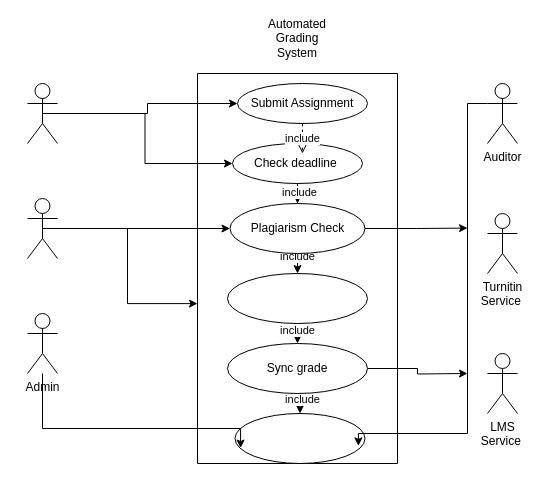
The diagram is 541 pixels wide and 481 high, and some of its shapes have lost their labels. Here are the shapes that lost their labels. From the top down, the box of each, then its label:
(26, 82, 58, 144): Student
(26, 198, 58, 258): Professor
(226, 272, 368, 324): Grade assignments
(234, 412, 365, 464): Audit log
